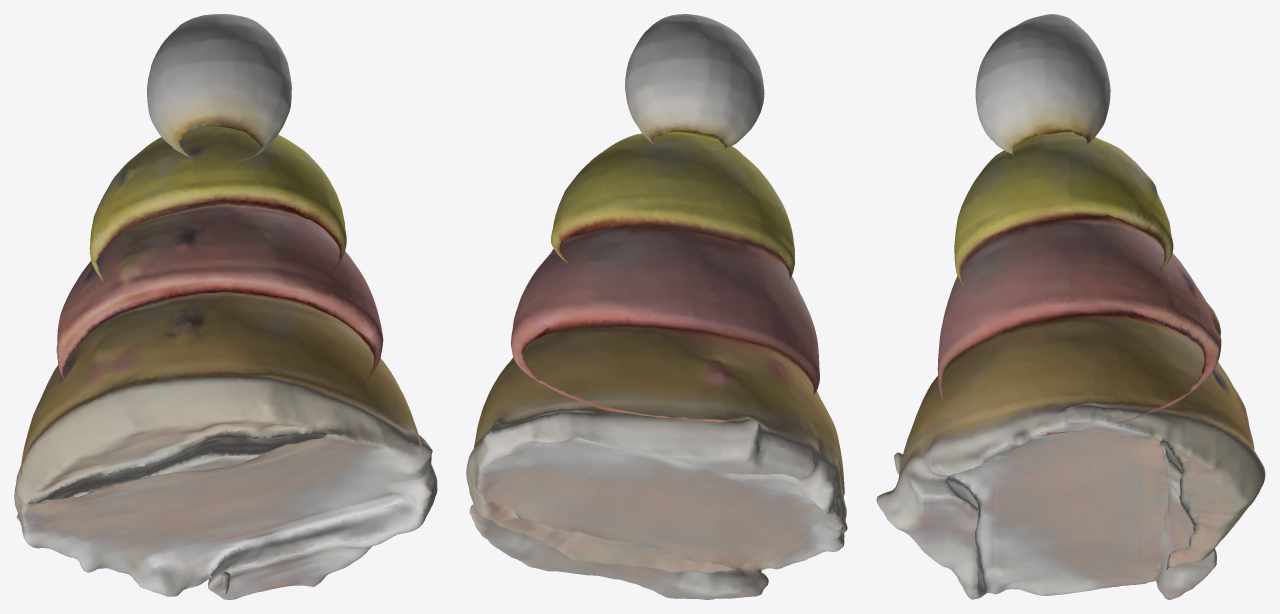
The model's file is chicken_ours.glb.
3 views of the same model, side by side, from view 1: azimuth 30°, elevation 25°; view 2: azimuth 150°, elevation 25°; view 3: azimuth 270°, elevation 25° (orthographic). The views are drawn at different scales.
Size of the model in its own units: 0.7688 by 1 by 0.6936.
